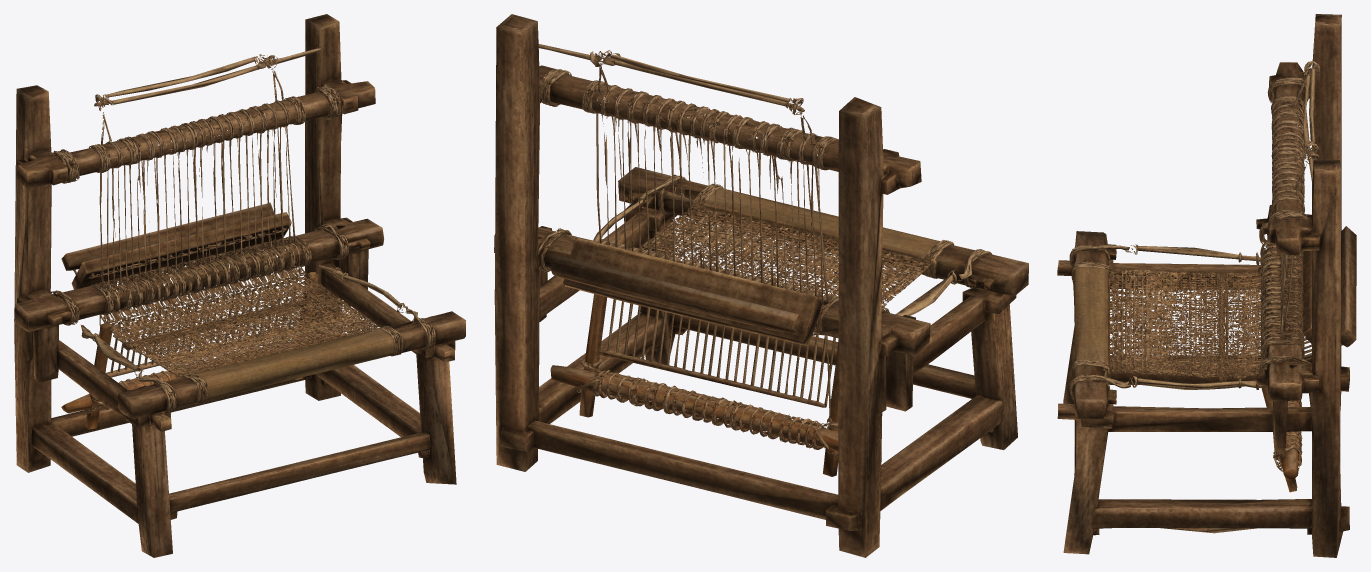
File: hali_tezgahi.glb
The picture shows the model from 3 angles, left to right: view 1: azimuth 30°, elevation 25°; view 2: azimuth 150°, elevation 25°; view 3: azimuth 270°, elevation 25°; orthographic projection. The views are drawn at different scales.
Parts seen in each view (by area): view 1: geometry_0; view 2: geometry_0; view 3: geometry_0.
Part boxes in pixels (box(x1,y1,x2,y2)): geometry_0: box(14, 14, 465, 557); geometry_0: box(494, 14, 1028, 557); geometry_0: box(1057, 14, 1356, 557).
Size of the model in its own units: 0.9786 by 0.9924 by 0.6904.
1 material, 1 textured.
